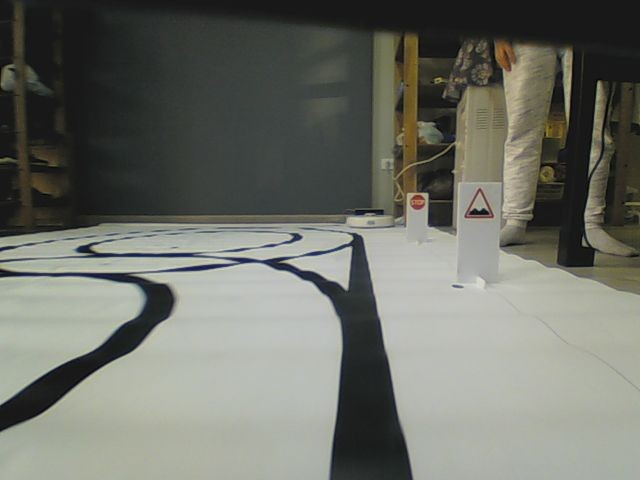Nerov: (463, 185, 495, 219)
